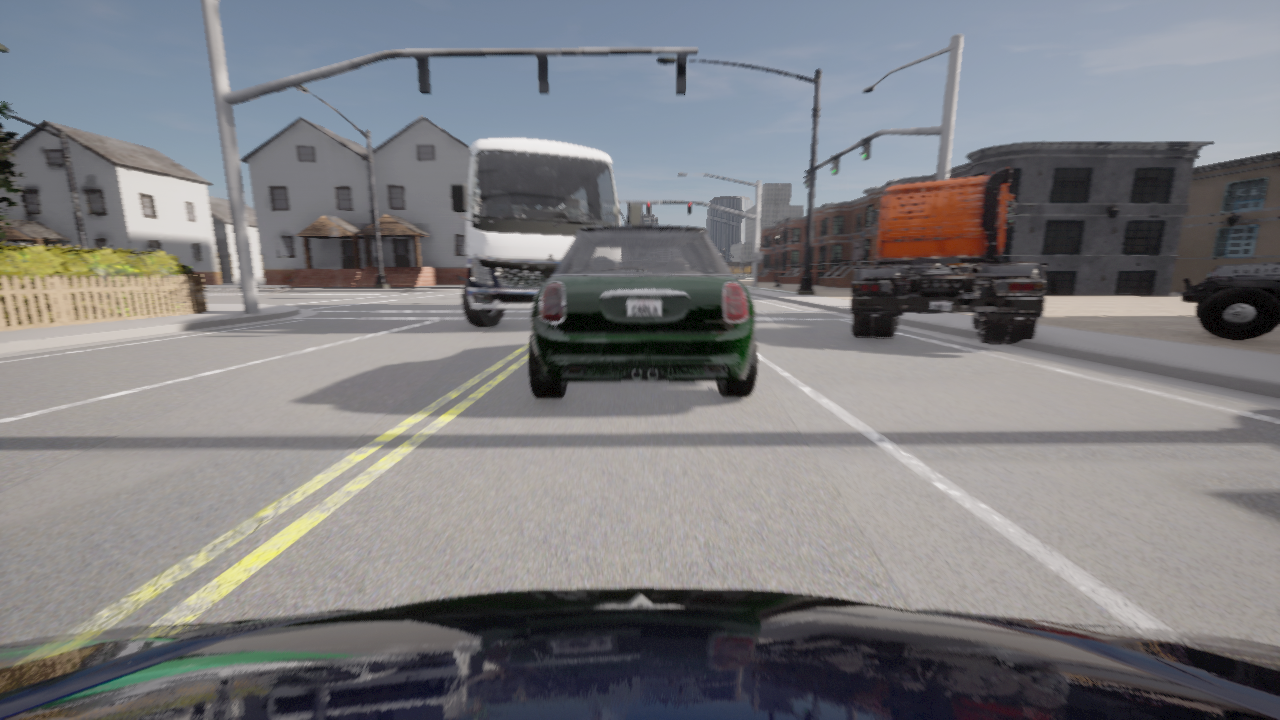cyclist: (0, 588, 1279, 719), (528, 212, 756, 397), (450, 138, 641, 327), (850, 167, 1047, 344), (1182, 262, 1279, 340)
